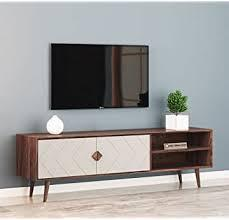TV: (47, 43, 152, 112)
console: (14, 129, 215, 201)
light: (42, 116, 68, 135)
